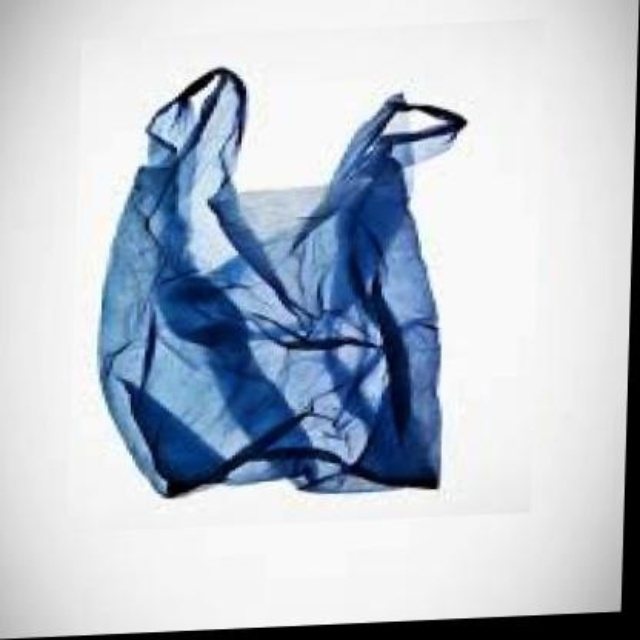trash: (98, 68, 465, 494)
